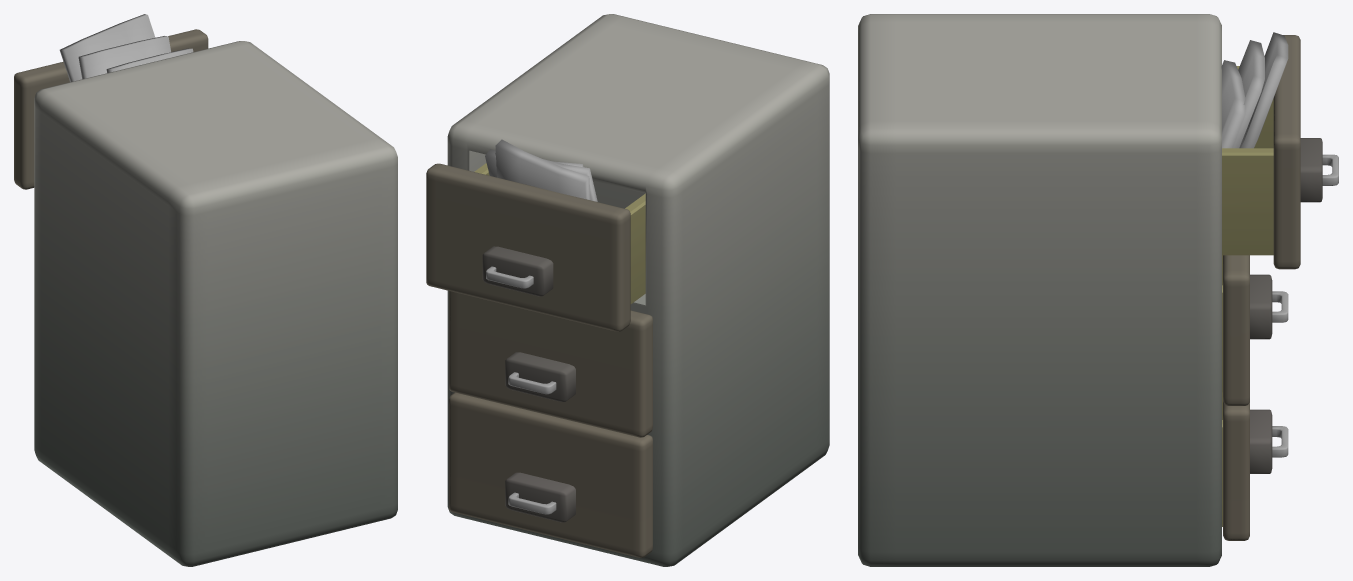
The model's file is small_cabin_01.fbx.
3 renders of one model, left to right at view 1: azimuth 30°, elevation 25°; view 2: azimuth 150°, elevation 25°; view 3: azimuth 270°, elevation 25°, orthographic. The views are drawn at different scales.
Visible parts, largest first — view 1: small_cabin_01; view 2: small_cabin_01; view 3: small_cabin_01.
Boxes of the visible parts, x1,y1,x2,y2 form: small_cabin_01: (14,14,397,566); small_cabin_01: (426,14,829,566); small_cabin_01: (858,14,1338,566).
Bounding box in the file's own units: 40.17 × 69.75 × 65.41.
